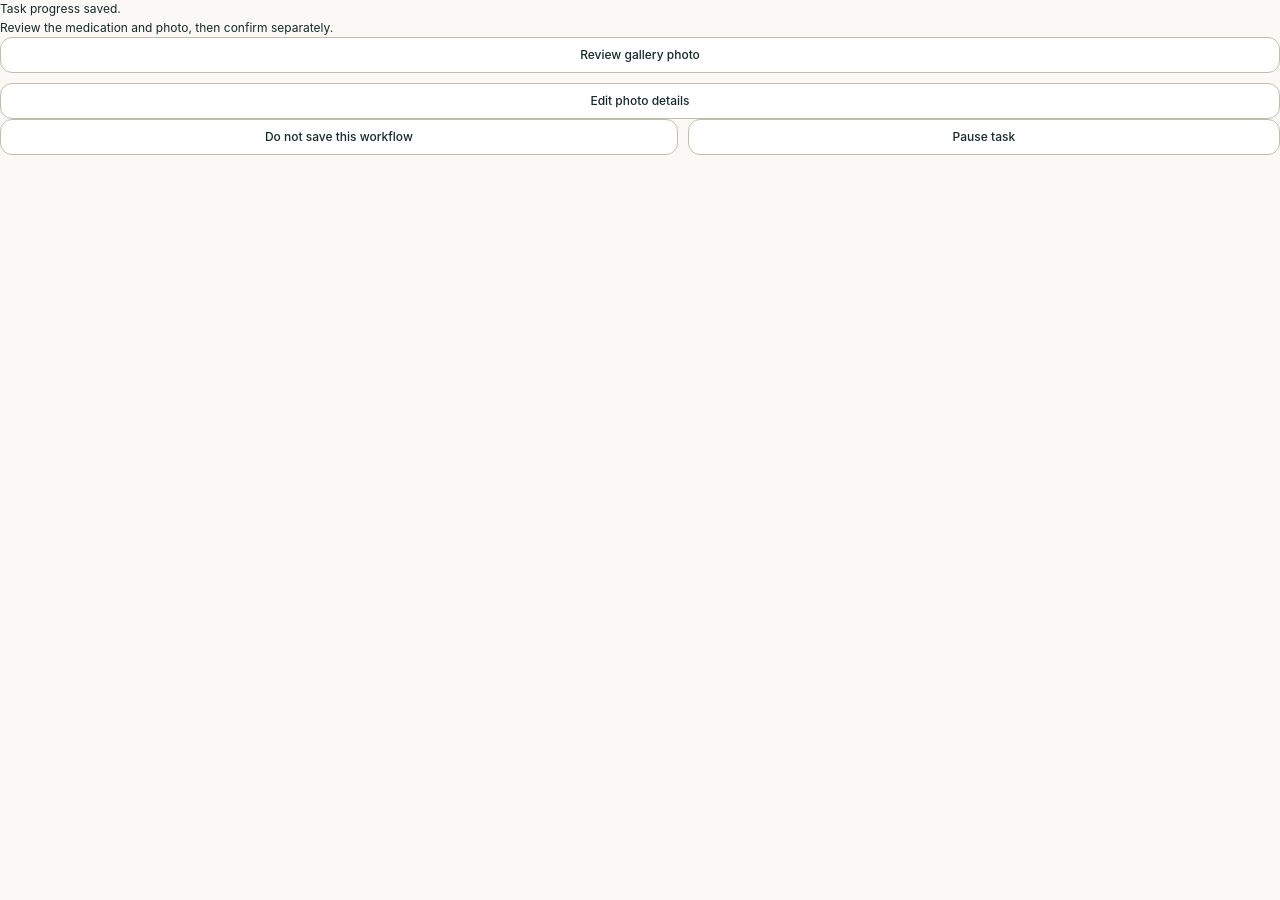
Test: retains the saved review after a lost native response and checks before retry
This screenshot has width=1280, height=900.
Later steps or results of the test are not shown.
Step 1. Click the button "Review gallery photo" → click(640, 55), box x1=0 y1=37 x2=1279 y2=73
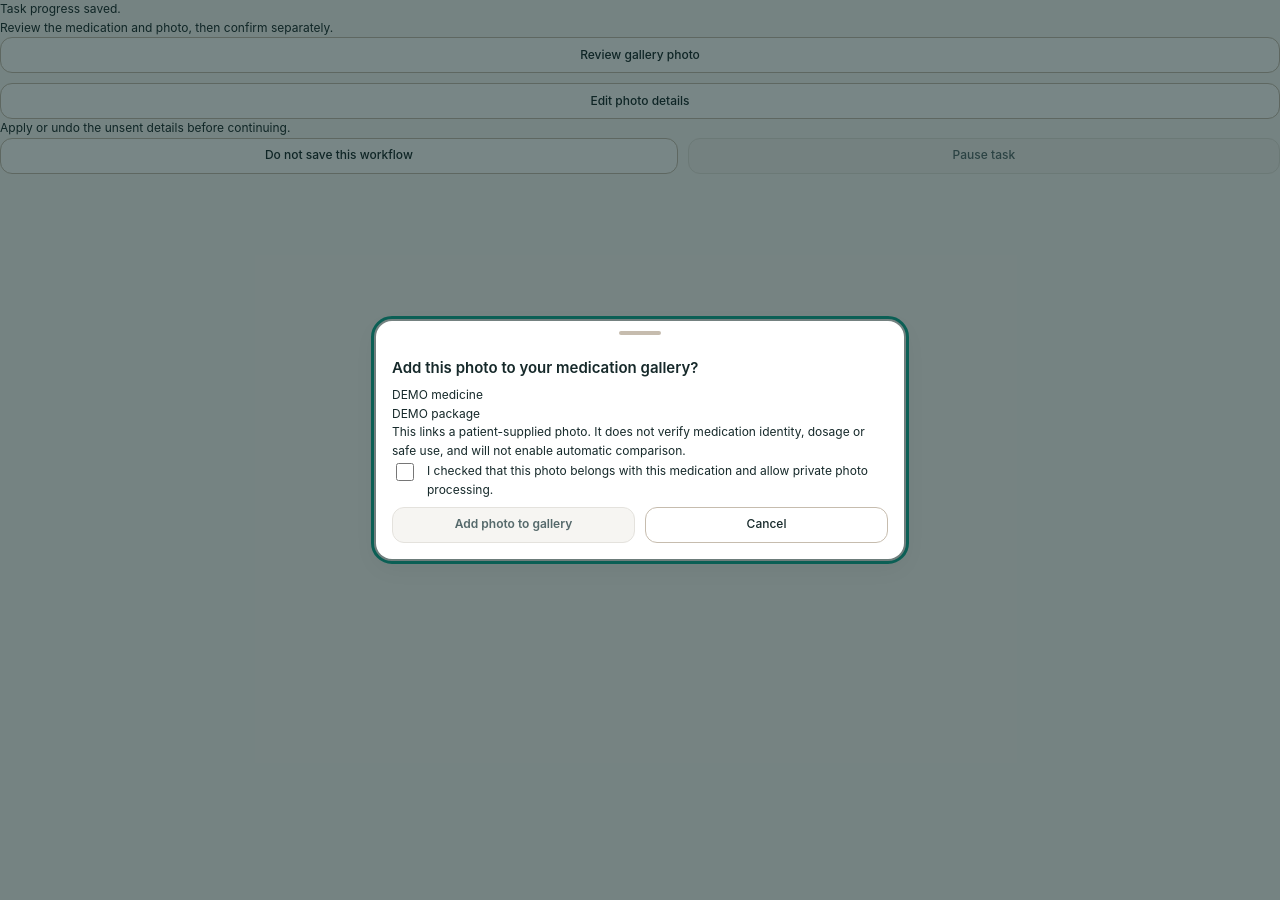
Step 2. Click the checkbox → click(405, 472), box x1=396 y1=462 x2=414 y2=480
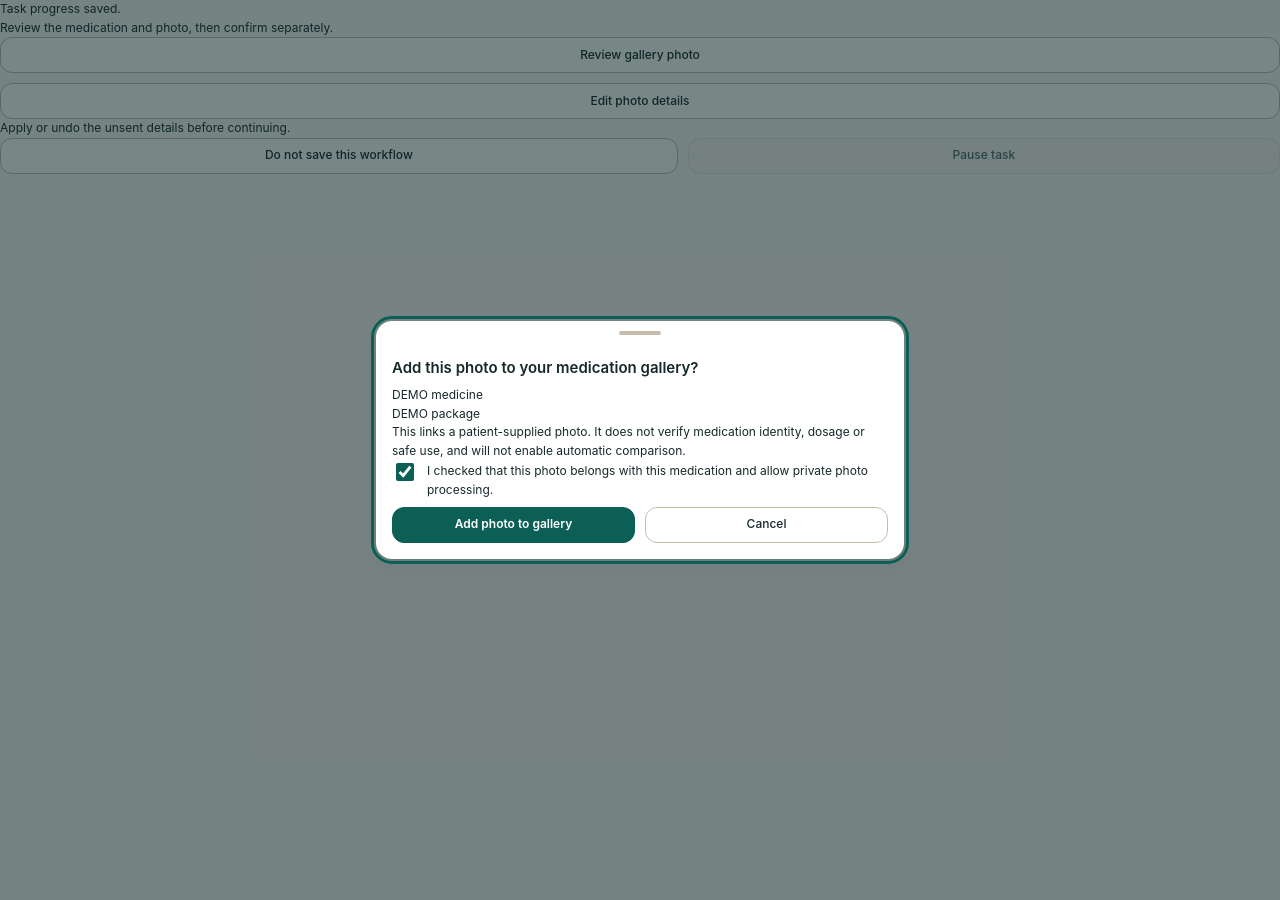
Step 3. Click the button "Add photo to gallery" → click(514, 525), box x1=392 y1=507 x2=635 y2=543
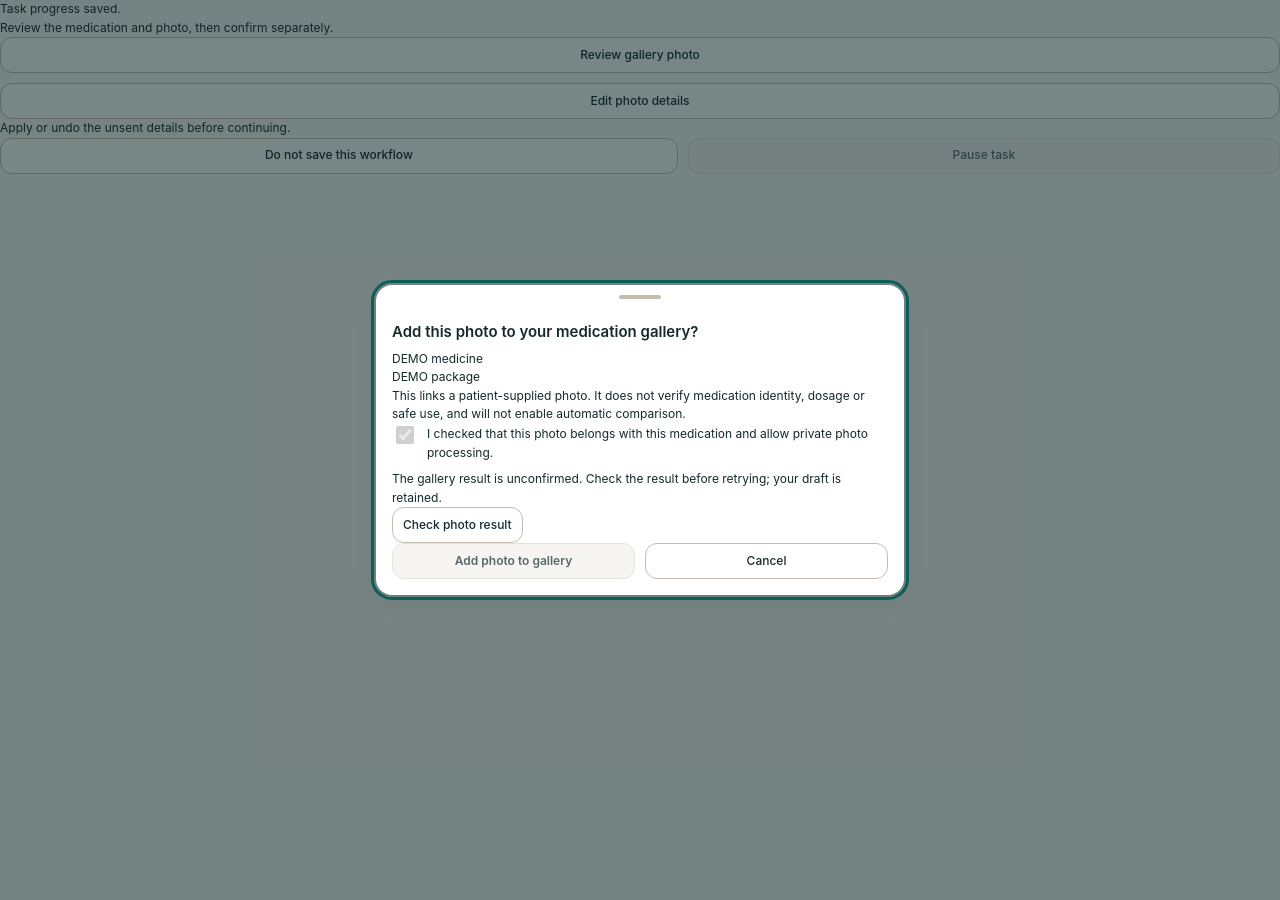
Expected: the message is shown, x1=392 y1=470 x2=888 y2=508
Expected: the button "Add photo to gallery" is disabled, x1=392 y1=544 x2=635 y2=580
